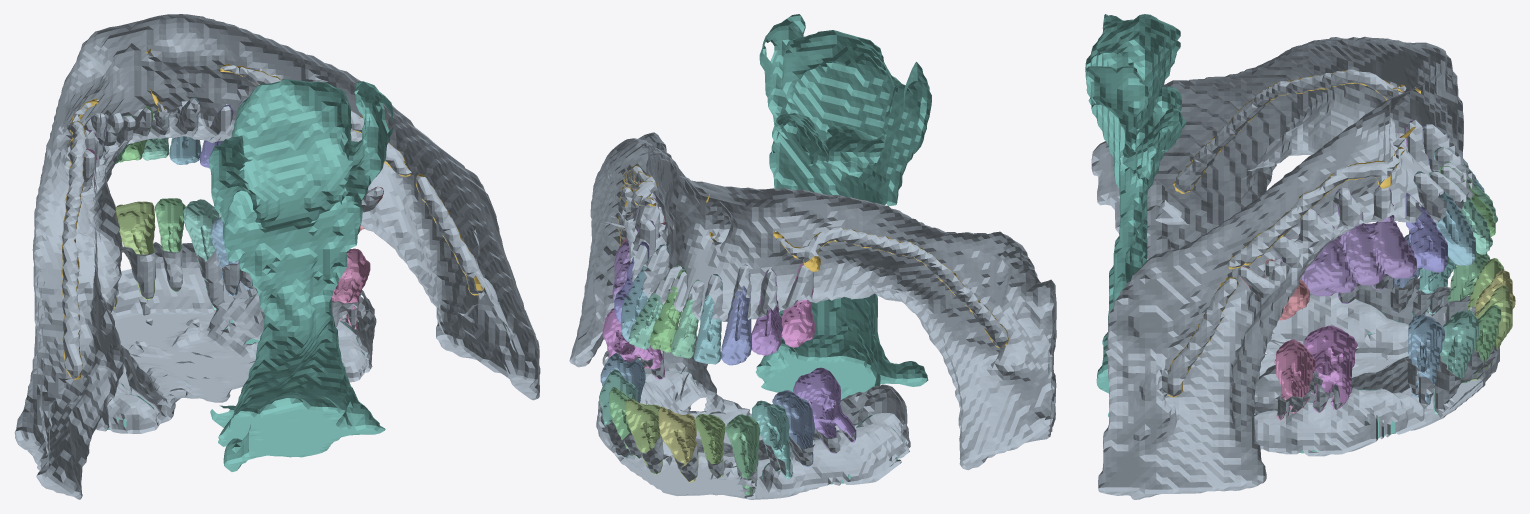
File: ToothFairy3F_002.glb
3 renders of one model, left to right at view 1: azimuth 30°, elevation 25°; view 2: azimuth 150°, elevation 25°; view 3: azimuth 270°, elevation 25°, orthographic. The views are drawn at different scales.
Visible parts, largest first — view 1: jaws__1, other__7, jaws__2, teeth__21, teeth__23, teeth__27, teeth__22, teeth__33, teeth__24; view 2: jaws__1, other__7, jaws__2, teeth__16, teeth__43, teeth__14, teeth__13, teeth__11, teeth__15, teeth__21, teeth__42, teeth__26 (+13 smaller); view 3: jaws__1, jaws__2, other__7, restorations__9, teeth__26, teeth__24, teeth__27, teeth__23, teeth__34, teeth__33, teeth__13, teeth__22 (+8 smaller).
Part boxes in pixels (<box>): jaws__1: <box>14,14,540,499</box>; other__7: <box>208,79,393,471</box>; jaws__2: <box>96,242,376,433</box>; teeth__21: <box>116,201,155,299</box>; teeth__23: <box>183,199,223,309</box>; teeth__27: <box>331,248,370,329</box>; teeth__22: <box>155,198,185,292</box>; teeth__33: <box>169,97,201,164</box>; teeth__24: <box>210,217,252,296</box>; jaws__1: <box>569,132,1056,470</box>; other__7: <box>755,14,931,399</box>; jaws__2: <box>596,336,910,499</box>; teeth__16: <box>793,367,856,453</box>; teeth__43: <box>721,264,751,365</box>; teeth__14: <box>752,400,793,478</box>; teeth__13: <box>726,414,760,495</box>; teeth__11: <box>658,406,698,482</box>; teeth__15: <box>772,390,814,466</box>; teeth__21: <box>625,399,663,474</box>; teeth__42: <box>693,274,722,364</box>; teeth__26: <box>602,308,664,379</box>; jaws__1: <box>1091,36,1474,499</box>; jaws__2: <box>1254,274,1499,456</box>; other__7: <box>1085,14,1186,416</box>; restorations__9: <box>1301,220,1416,296</box>; teeth__26: <box>1304,325,1357,412</box>; teeth__24: <box>1408,314,1444,406</box>; teeth__27: <box>1274,339,1315,420</box>; teeth__23: <box>1433,310,1478,414</box>; teeth__34: <box>1405,193,1447,272</box>; teeth__33: <box>1414,171,1475,265</box>; teeth__13: <box>1443,251,1490,325</box>; teeth__22: <box>1462,305,1501,383</box>.
Size of the model in its own units: 119 by 81.99 by 91.6.
